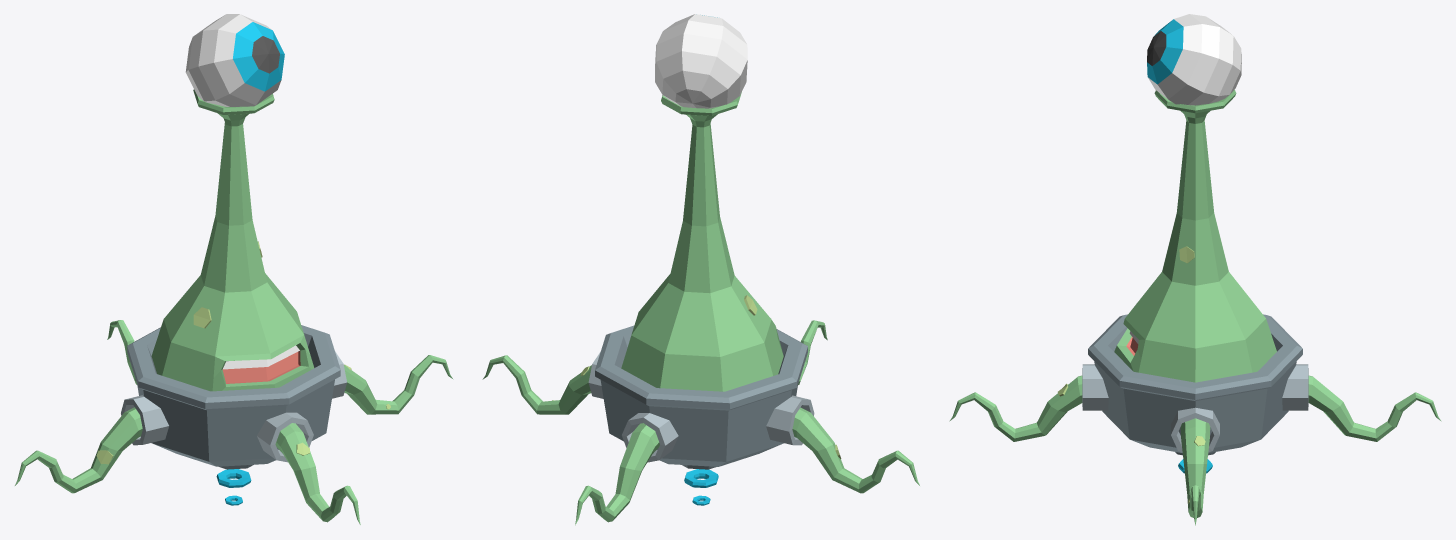
Rendered from Alien_01.gltf.
3 views of the same model, side by side, from view 1: azimuth 30°, elevation 25°; view 2: azimuth 150°, elevation 25°; view 3: azimuth 270°, elevation 25° (orthographic). The views are drawn at different scales.
Visible parts, largest first — view 1: node-0; view 2: node-0; view 3: node-0.
Boxes of the visible parts, left/top/right/bottom form: node-0: left=15, top=14, right=453, bottom=524; node-0: left=482, top=14, right=919, bottom=525; node-0: left=949, top=14, right=1441, bottom=525.
Bounding box in the file's own units: 11.36 × 11.95 × 11.36.
